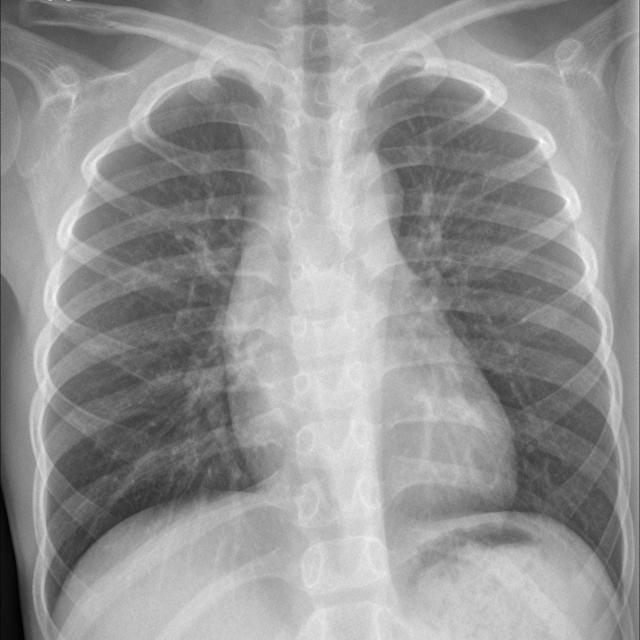no-pneumonia: (370, 63, 626, 587), (34, 72, 270, 634)
